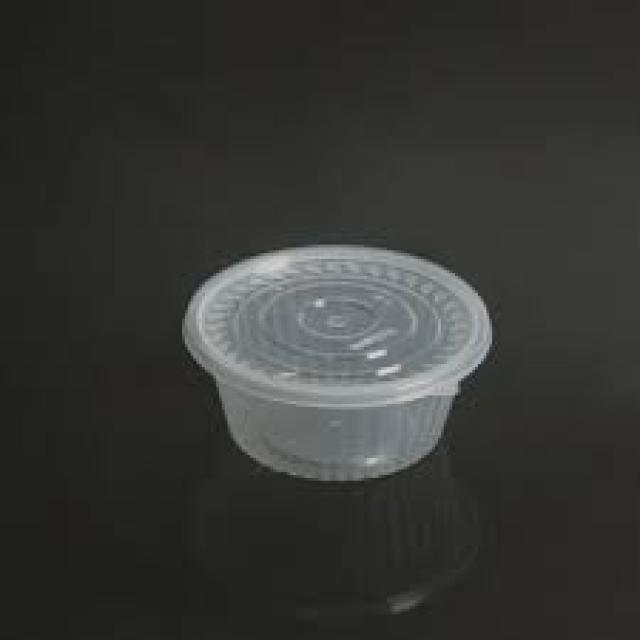disposable: (161, 230, 513, 490)
